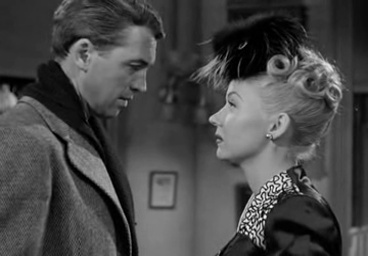face: (95, 43, 157, 119), (208, 79, 259, 160)
mcu: (1, 1, 368, 256)
person: (1, 1, 167, 256), (186, 9, 349, 256)
